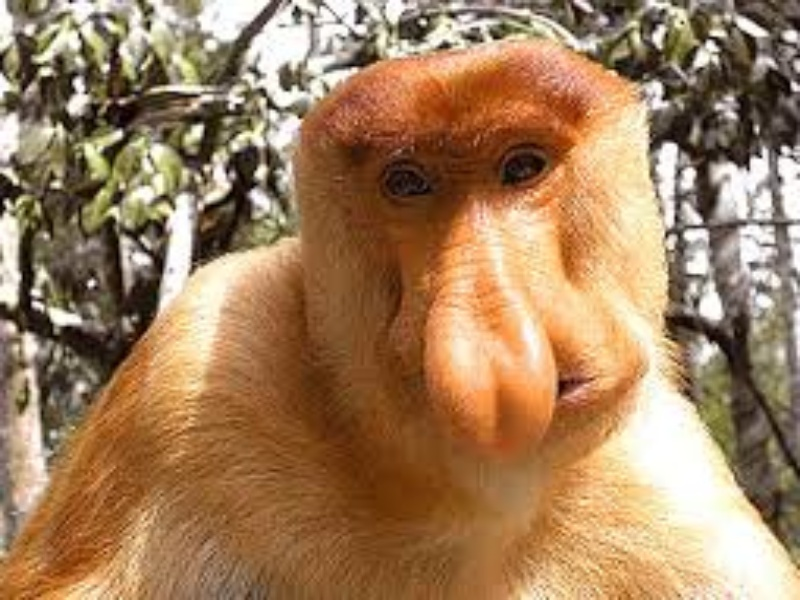monkey: (33, 39, 724, 582)
